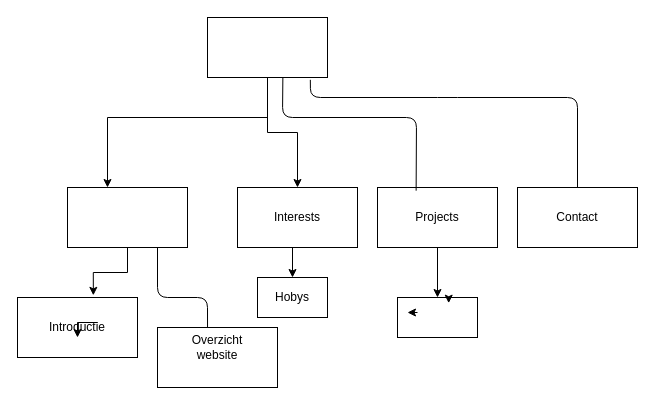
Image size: 655x405. Some labels were removed from this diagram. The shapes that lost their labels are listed below. From the top down, each one's centre as x and y in pixels, then its label:
At (267,47): "Home".
At (127,217): "About".
At (437,317): "java project".
